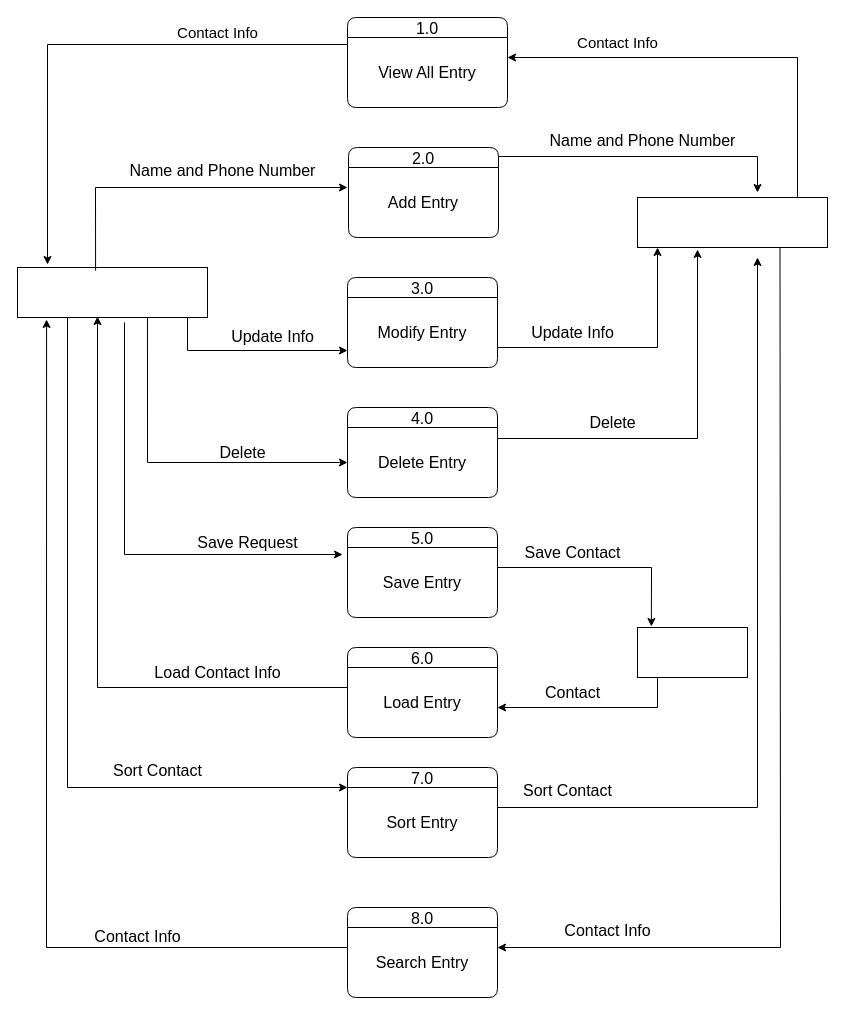
Image size: 845x1015. Some labels were removed from this diagram. The box of each missing label's shape, as (x1, y1, x2, y2) in pixels:
Contact Manager: (636, 196, 828, 248)
File System: (636, 626, 748, 678)
User: (16, 266, 208, 318)
